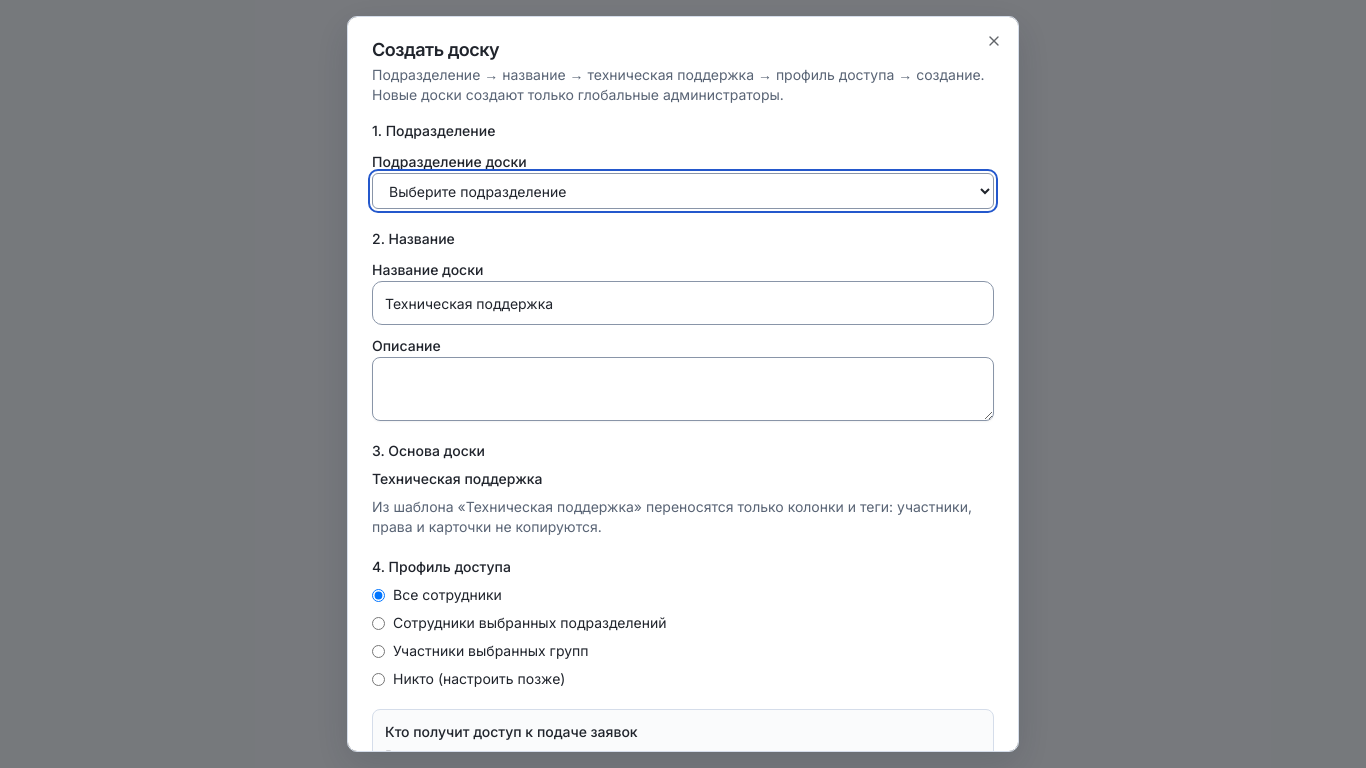
board creation scenario › keeps the form open and the entered data after a failure
The image size is (1366, 768).
Type "Доска" into the field labelled "Название доски" at (683, 303), box top-left (372, 281), bottom-right (994, 325)
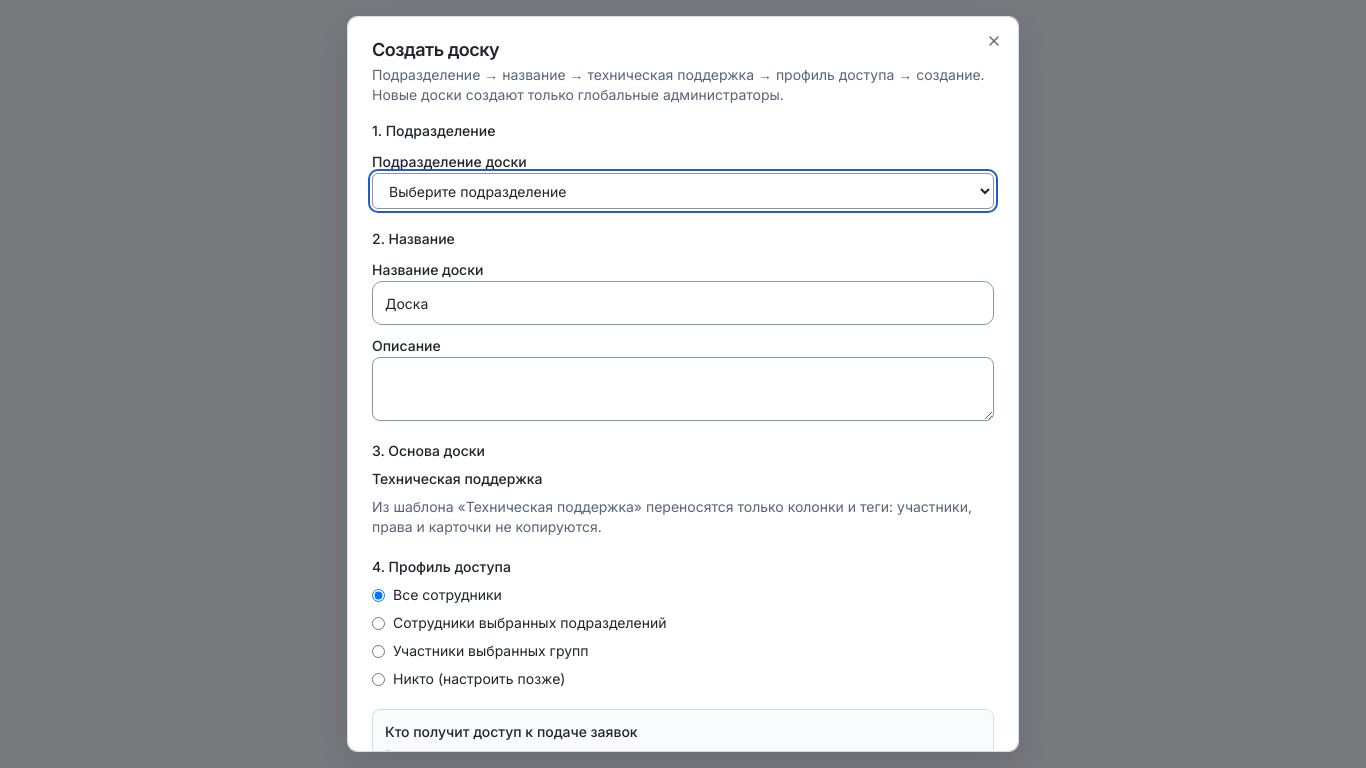
Select "ИТ" in the dropdown labelled "Подразделение доски" at (683, 191), box top-left (372, 173), bottom-right (994, 209)
(page scrolled)
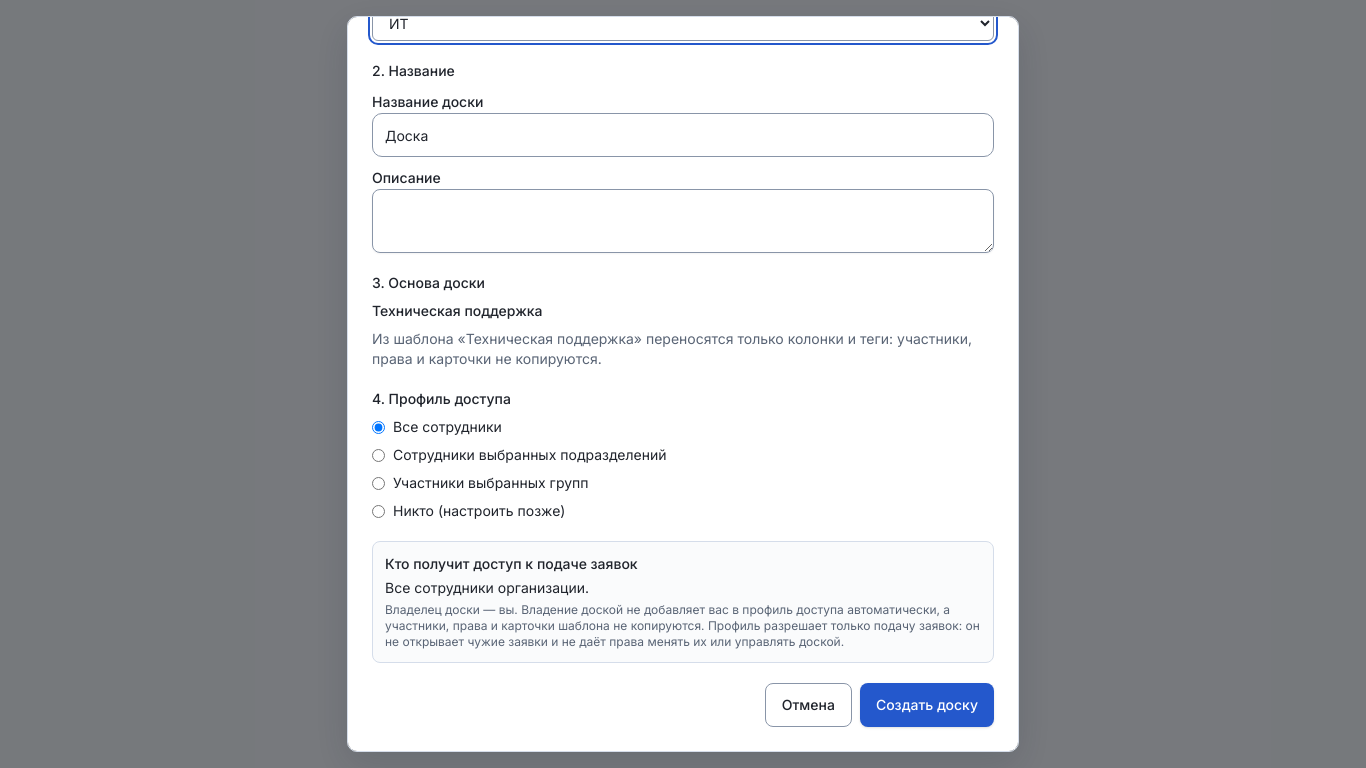
Click the button "Создать доску" at (927, 705), box top-left (860, 683), bottom-right (994, 727)
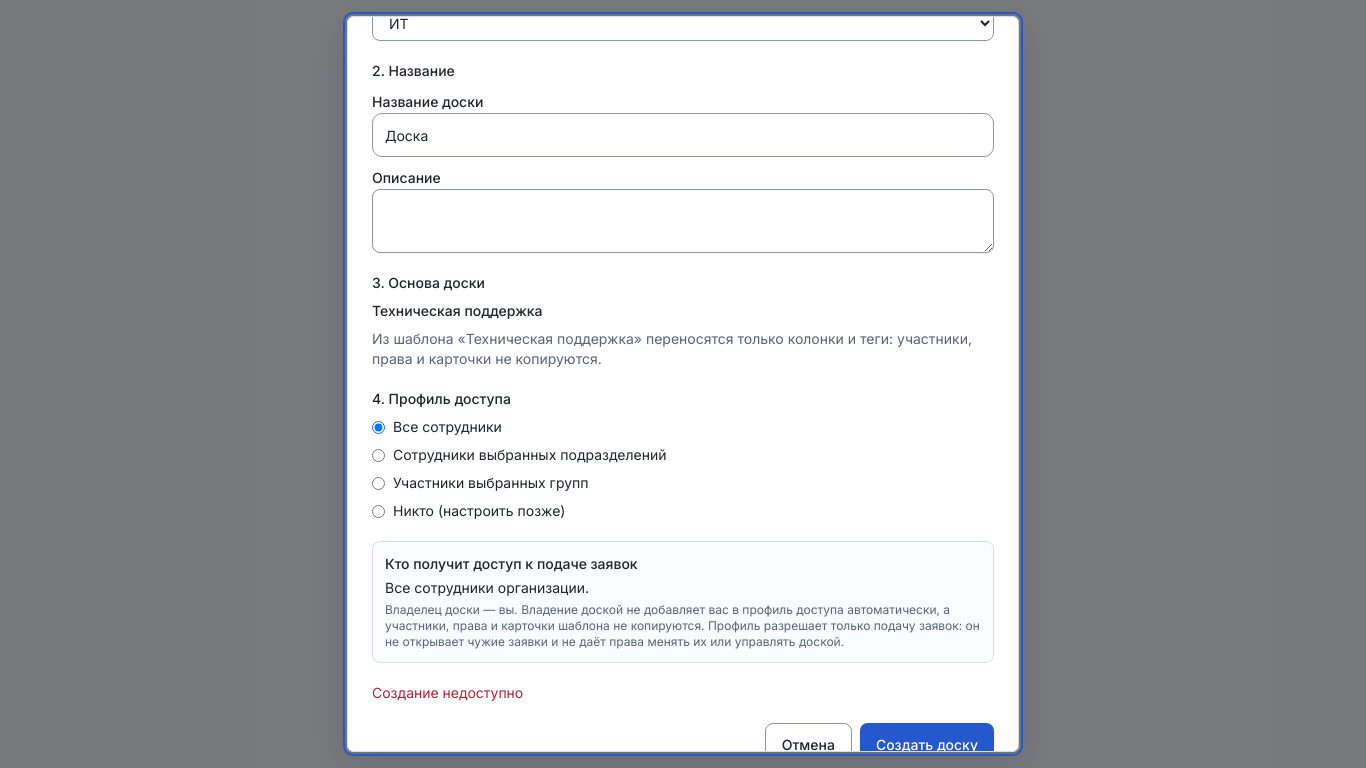
Now the message reads "Создание недоступно", box top-left (372, 684), bottom-right (523, 701)
